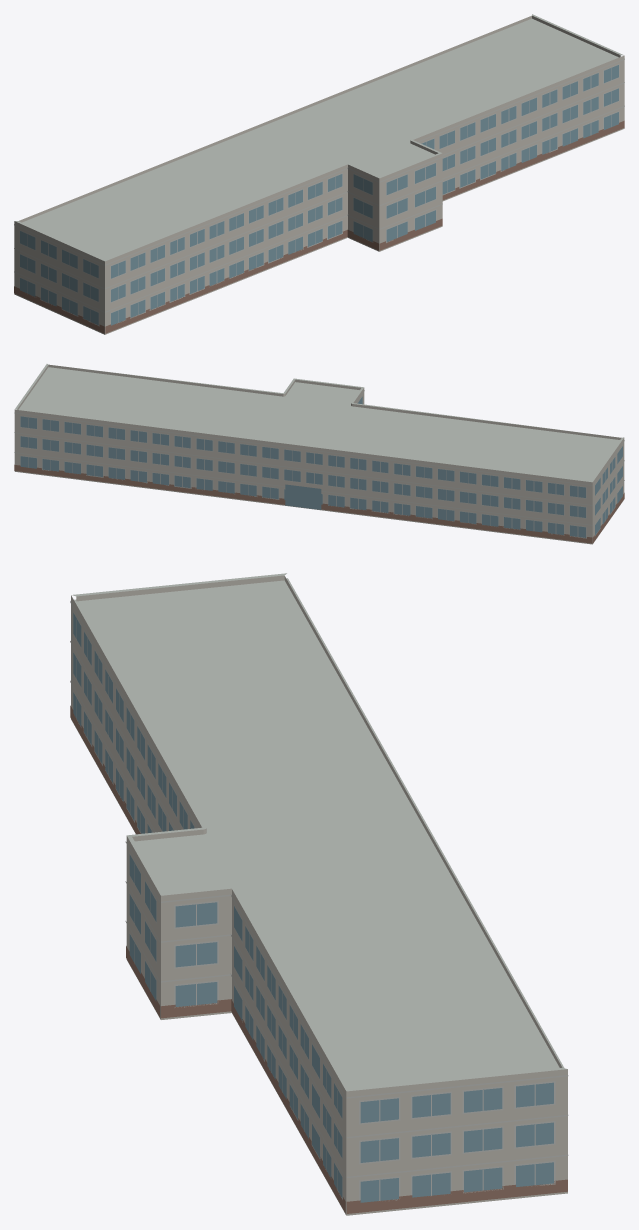
The model's file is public-fd4da786-f5b3-40a0-a1a4-49ea6093e7e0.glb.
The picture shows the model from 3 angles, top to bottom: view 1: azimuth 30°, elevation 25°; view 2: azimuth 150°, elevation 25°; view 3: azimuth 270°, elevation 25°; orthographic projection. The views are drawn at different scales.
Visible parts, largest first — view 1: public-fd4da786-f5b3-40a0-a1a4-49ea6093e7e0; view 2: public-fd4da786-f5b3-40a0-a1a4-49ea6093e7e0; view 3: public-fd4da786-f5b3-40a0-a1a4-49ea6093e7e0.
Boxes of the visible parts, x1=… form: public-fd4da786-f5b3-40a0-a1a4-49ea6093e7e0: x1=14, y1=14, x2=624, y2=334; public-fd4da786-f5b3-40a0-a1a4-49ea6093e7e0: x1=14, y1=364, x2=624, y2=544; public-fd4da786-f5b3-40a0-a1a4-49ea6093e7e0: x1=70, y1=573, x2=568, y2=1215.
Size of the model in its own units: 81.9 by 9.15 by 33.26.
